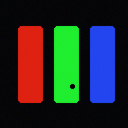0 point: (70, 84, 74, 88)
